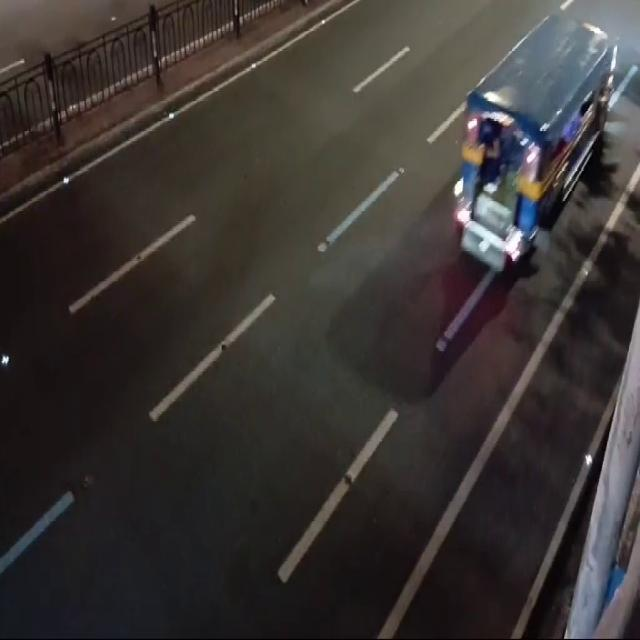jeepney: (440, 11, 626, 269)
